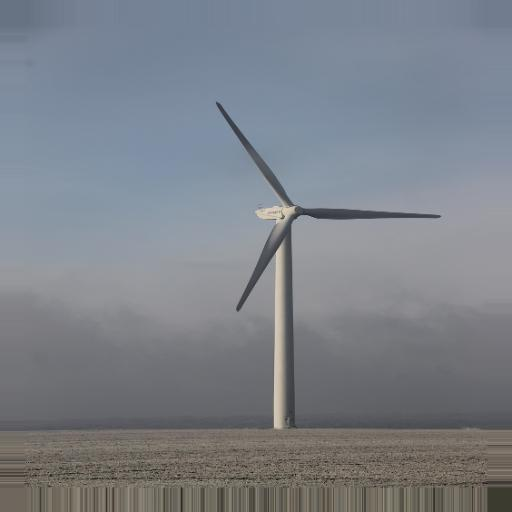wind turbine: (216, 101, 444, 434)
